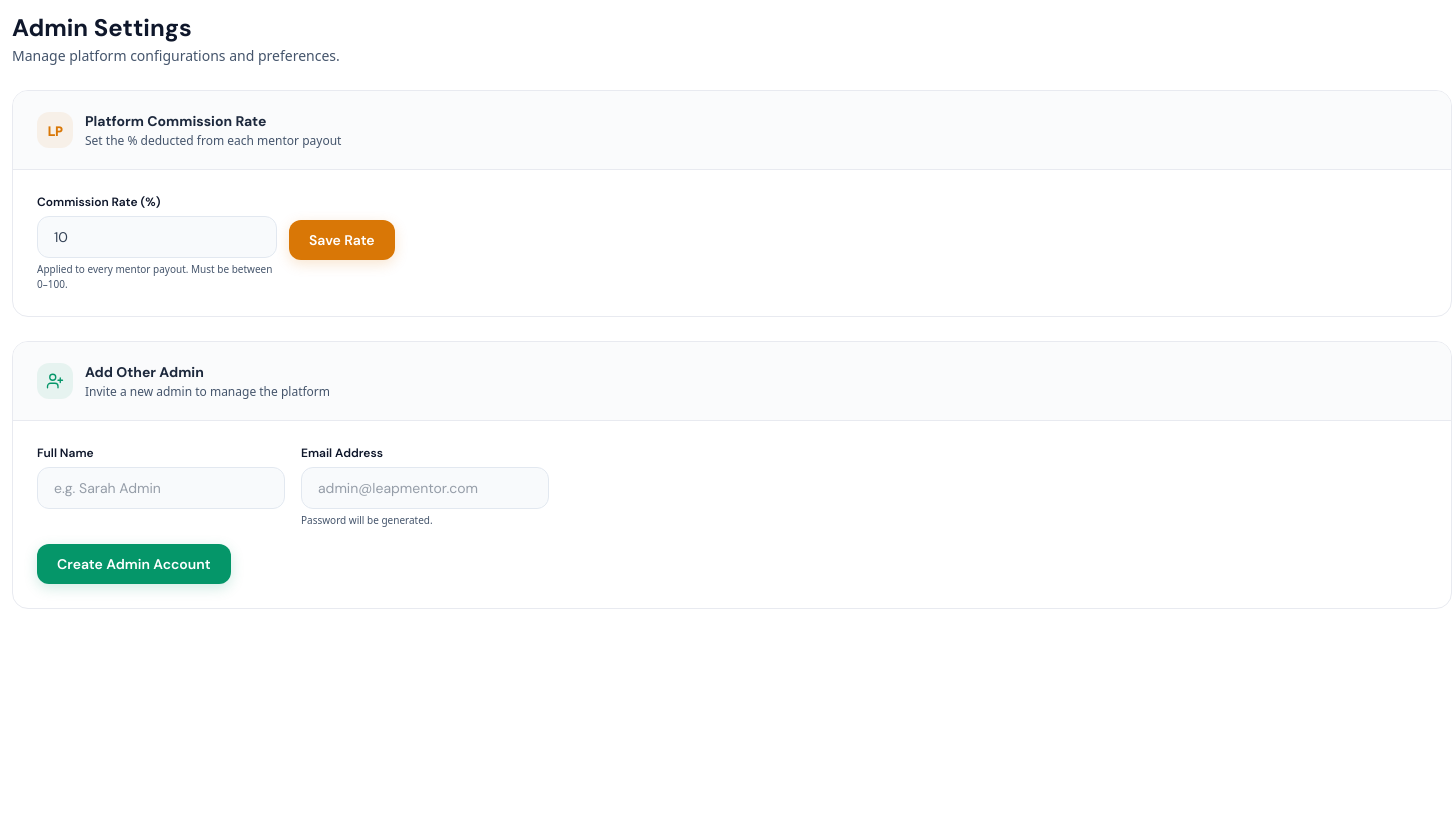
AdminSettings › shows a validation error when saving an empty commission rate
This screenshot has width=1452, height=822.
Clear the number field labelled "Commission Rate (%)" at (157, 237), box [37,216,277,258]
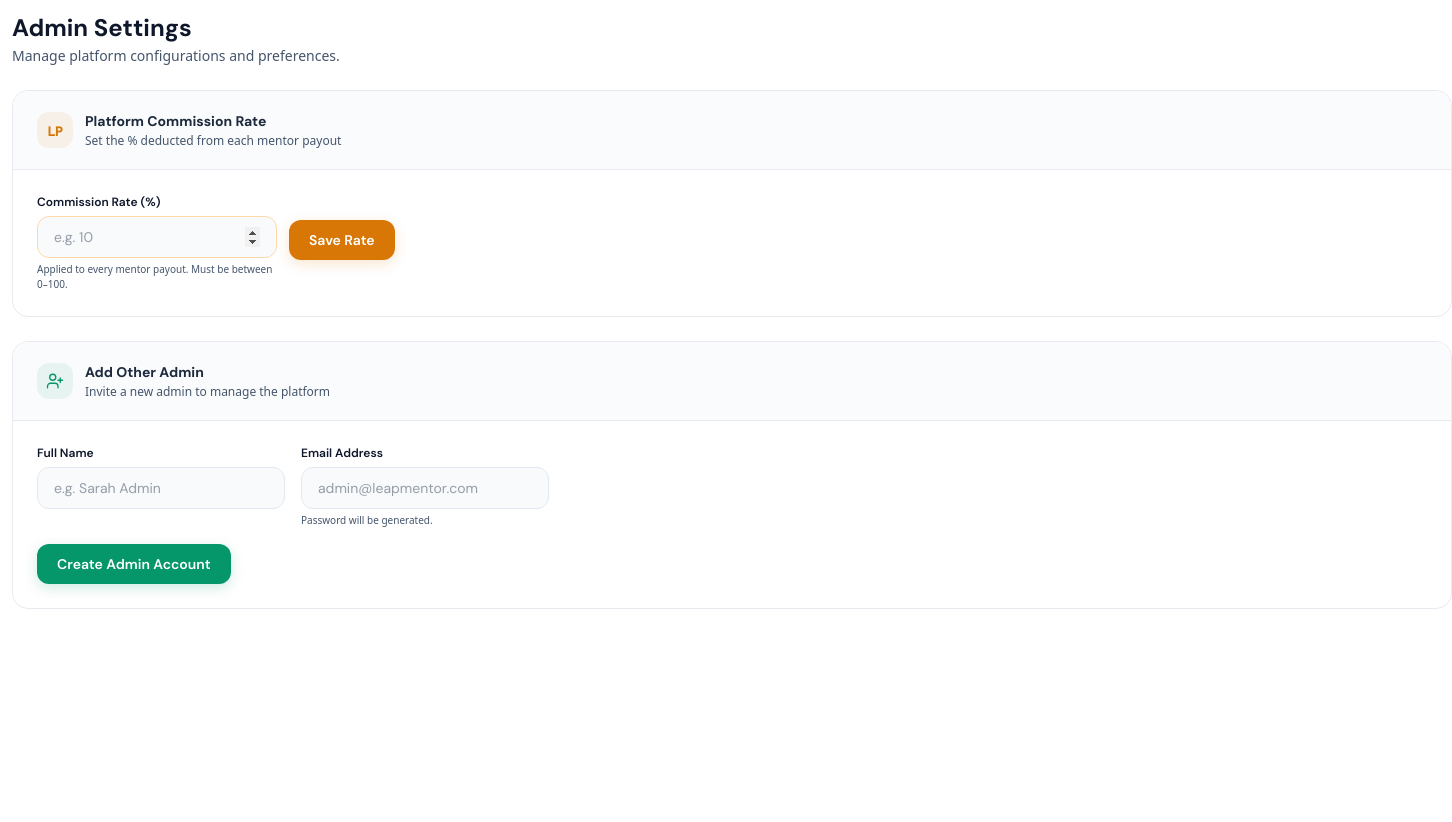
Click the button "Save Rate".
click(342, 240)  # box [289,220,395,260]
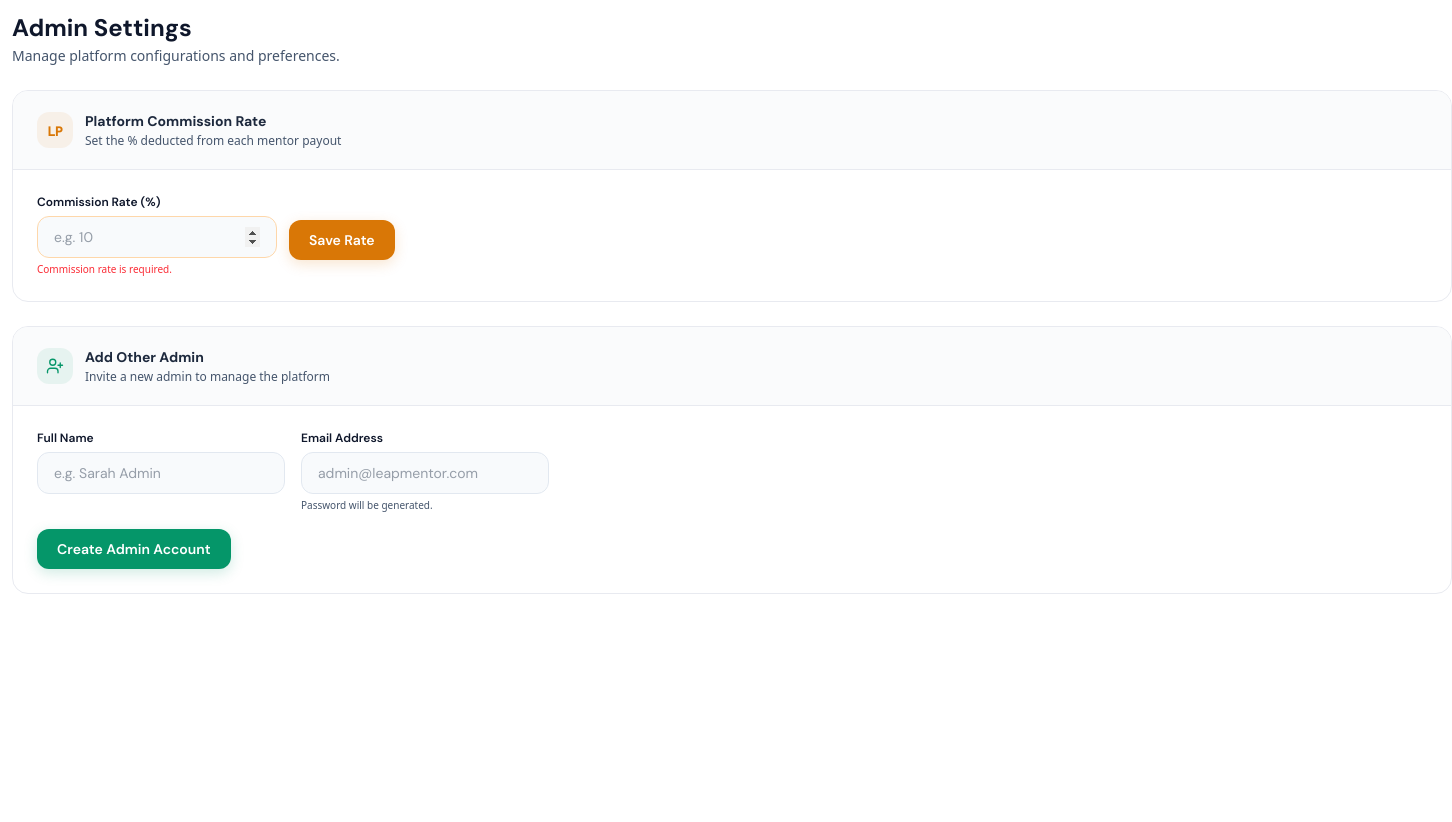
Check: the text "Commission rate is required." is shown, box [37,262,172,276]
